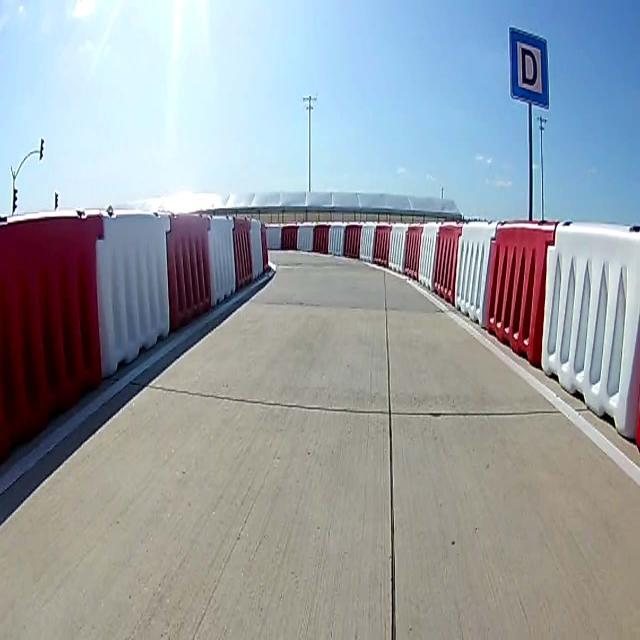durak: (509, 25, 549, 109)
